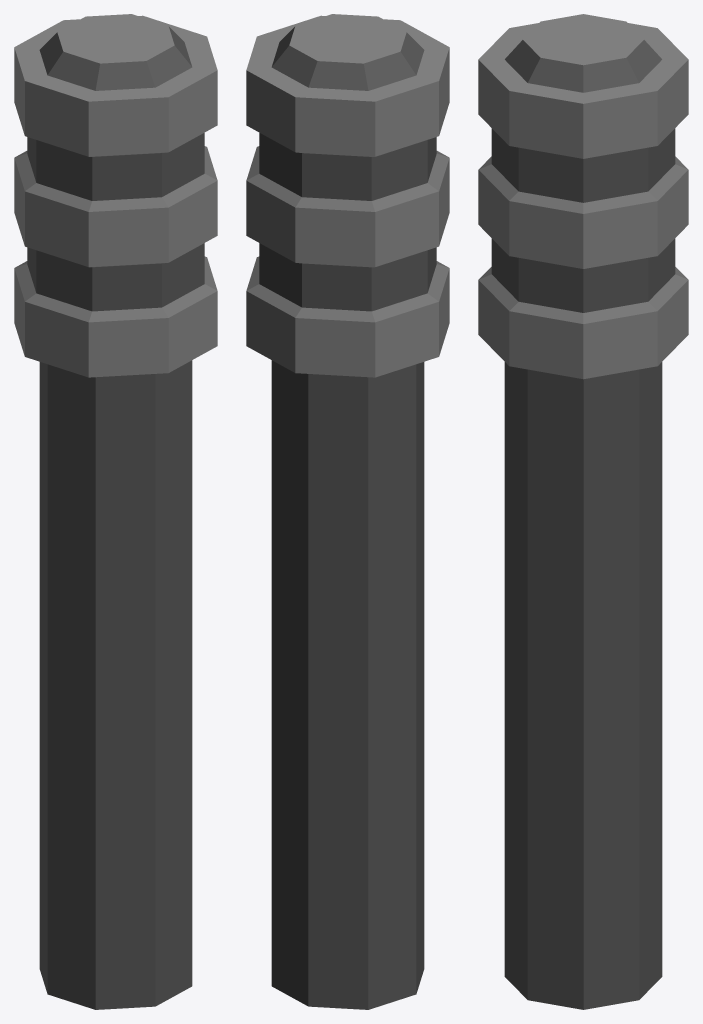
File: lever_type_00.fbx
3 views of the same model, side by side, from view 1: azimuth 30°, elevation 25°; view 2: azimuth 150°, elevation 25°; view 3: azimuth 270°, elevation 25° (orthographic).
Parts seen in each view (by area): view 1: lever_type_00; view 2: lever_type_00; view 3: lever_type_00.
Boxes of the visible parts, bbox=[...] form: lever_type_00: bbox=[14, 14, 217, 1009]; lever_type_00: bbox=[246, 14, 449, 1009]; lever_type_00: bbox=[478, 14, 688, 1009].
Size of the model in its own units: 5.88 by 28.94 by 5.88.
